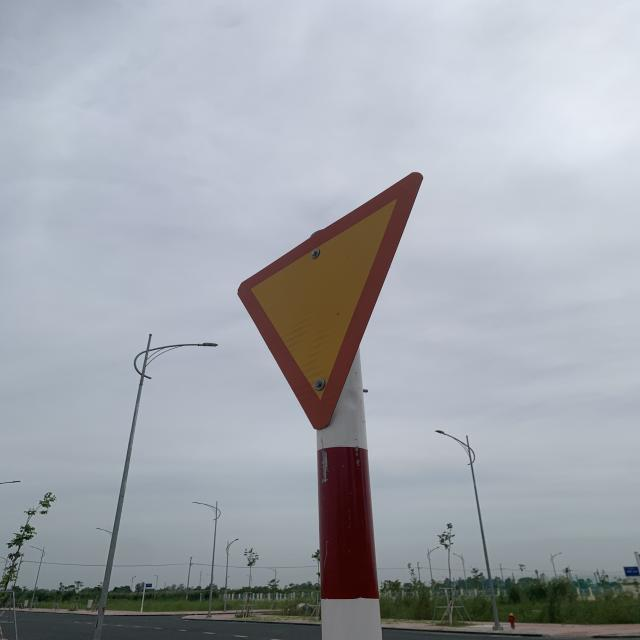Gioi_Han_Toc_Do_25: (234, 169, 428, 429)
